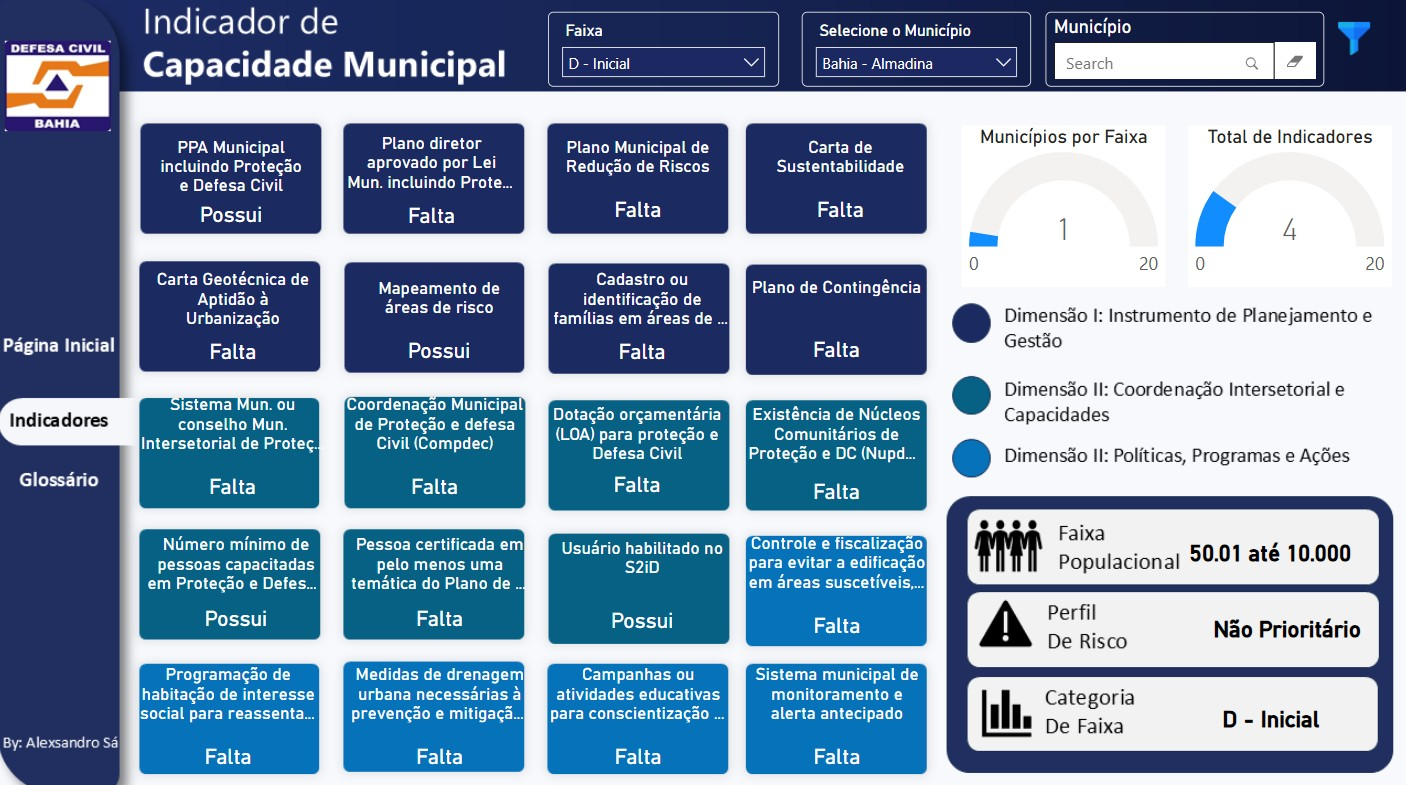

The dashboard page shown, as its layout file describes it:
{"tool":"powerbi","page":{"name":"Página 2","canvas":[1280,720],"ordinal":1},"visuals":[{"type":"card","title":"Plano diretor aprovado por Lei Mun. incluindo Proteção e DC","fields":{"Values":["Min(Tabela2.Indicador2)"]},"box":[311.4,122.6,163.1,98.1],"z":0},{"type":"card","title":"PPA Municipal incluindo Proteção e Defesa Civil","fields":{"Values":["Min(Tabela2.Indicador1)"]},"box":[136.1,126.3,150.8,89.5],"z":1000},{"type":"card","title":"Plano Municipal de Redução de Riscos","fields":{"Values":["Min(Tabela2.Indicador3)"]},"box":[499,126.3,163.1,98.1],"z":2000},{"type":"card","title":"Carta de Sustentabilidade ","fields":{"Values":["Min(Tabela2.Indicador_f4)"]},"box":[682.9,126.3,163.1,98.1],"z":3000},{"type":"card","title":"Carta Geotécnica de Aptidão à Urbanização","fields":{"Values":["Min(Tabela2.Indicador_f5)"]},"box":[131.1,245.5,163.2,97.7],"z":4000},{"type":"card","title":"Mapeamento de áreas de risco","fields":{"Values":["Min(Tabela2.Indicador_f6)"]},"box":[318.7,254.5,163.2,97.7],"z":5000},{"type":"card","title":"Cadastro ou identificação de famílias em áreas de risco","fields":{"Values":["Min(Tabela2.Indicador7)"]},"box":[498.6,245.5,170.9,97.7],"z":6000},{"type":"card","title":"Plano de Contingência","fields":{"Values":["Min(Tabela2.Indicador8)"]},"box":[676,253.2,169.6,115.7],"z":7000},{"type":"card","title":"Sistema Mun. ou conselho Mun. Intersetorial de Proteção e Defesa Civil","fields":{"Values":["Min(Tabela2.Indicador9)"]},"box":[124.7,359.8,176.1,115.7],"z":8000},{"type":"card","title":"Coordenação Municipal de Proteção e defesa Civil (Compdec)","fields":{"Values":["Min(Tabela2.Indicador10)"]},"box":[311,359.8,170.9,115.7],"z":9000},{"type":"card","title":"Dotação orçamentária (LOA) para proteção e Defesa Civil","fields":{"Values":["Min(Tabela2.Indicador11)"]},"box":[494.8,368.8,170.9,93.8],"z":10000},{"type":"card","title":"Existência de Núcleos Comunitários de Proteção e DC (Nupdec)","fields":{"Values":["Min(Tabela2.Indicador12)"]},"box":[676,368.8,169.6,106.7],"z":11000},{"type":"card","title":"Número mínimo de pessoas capacitadas em Proteção e Defesa Civil","fields":{"Values":["Min(Tabela2.Indicador13)"]},"box":[129.8,485.8,170.9,101.5],"z":12000},{"type":"card","title":"Pessoa certificada em pelo menos uma temática do Plano de Capacitação Continuada da Sedec","fields":{"Values":["Min(Tabela2.Indicador14)"]},"box":[314.9,485.8,170.9,101.5],"z":13000},{"type":"card","title":"Usuário habilitado no S2iD","fields":{"Values":["Min(Tabela2.Indicador15)"]},"box":[498.6,489.6,170.9,114.4],"z":14000},{"type":"card","title":"Controle e fiscalização para evitar a edificação em áreas suscetíveis, vistoriar edificações e áreas de risco","fields":{"Values":["Min(Tabela2.Indicador16)"]},"box":[675.6,485.5,170.4,115.2],"z":15000},{"type":"card","title":"Programação de habitação de interesse social para reassentamento de famílias removidas de áreas de risco ou desabrigadas em função de desastres","fields":{"Values":["Min(Tabela2.Indicador17)"]},"box":[123.8,604.4,170.4,115.2],"z":16000},{"type":"card","title":"Medidas de drenagem urbana necessárias à prevenção e mitigação de riscos de desastres","fields":{"Values":["Min(Tabela2.Indicador18)"]},"box":[314.9,604,170.9,115.7],"z":17000},{"type":"card","title":"Campanhas ou atividades educativas para conscientização sobre riscos de desastres","fields":{"Values":["Min(Tabela2.Indicador19)"]},"box":[495.3,604.4,170.4,115.2],"z":18000},{"type":"card","title":"Sistema municipal de monitoramento e alerta antecipado","fields":{"Values":["Min(Tabela2.Indicador20)"]},"box":[675.6,604.4,170.4,115.2],"z":19000},{"type":"slicer","fields":{"Values":["Tabela2.Região Ajustada"]},"box":[728.7,12.9,208.2,68.1],"z":20000},{"type":"slicer","fields":{"Values":["Tabela2.Faixa"]},"box":[498.6,12.9,209.5,68.1],"z":21000},{"type":"gauge","fields":{"Y":["Sum(Tabela2.Total)"]},"box":[1079.5,115.7,185.1,146.5],"z":22000},{"type":"actionButton","box":[10.3,41.1,90,81],"z":23000},{"type":"gauge","fields":{"Y":["Count(Tabela2.Código IBGE)"]},"box":[873.9,115.7,185.1,146.5],"z":24000},{"type":"actionButton","box":[3.9,290.4,102.8,39.8],"z":25000},{"type":"actionButton","box":[3.9,417.7,102.8,39.8],"z":26000},{"type":"textFilter25A4896A83E0487089E2B90C9AE57C8A","fields":{"field":["Tabela2.Município"]},"box":[949.7,12.9,253.2,68.1],"z":27000},{"type":"card","title":"MUNICÍPIOS","fields":{"Values":["Min(Tabela2.Faixa Populacional)"]},"box":[1061.5,462.7,185.1,81],"z":28000},{"type":"card","title":"MUNICÍPIOS","fields":{"Values":["Min(Tabela2.Perfil de Risco)"]},"box":[1059,532,221,81],"z":29000},{"type":"card","title":"MUNICÍPIOS","fields":{"Values":["Min(Tabela2.Faixa)"]},"box":[1043.5,613,221,81],"z":30000}]}

Visuals, with their boxes on the page's 1280x720 design canvas (x1, y1, x2, y2). These are canvas units, not pixel positions in the 1406x785 screenshot, which may show the page scaled, cropped or inside an application window:
"Plano diretor aprovado por Lei Mun. incluindo Proteção e DC" card: bbox=(311, 123, 474, 221)
"PPA Municipal incluindo Proteção e Defesa Civil" card: bbox=(136, 126, 287, 216)
"Plano Municipal de Redução de Riscos" card: bbox=(499, 126, 662, 224)
"Carta de Sustentabilidade " card: bbox=(683, 126, 846, 224)
"Carta Geotécnica de Aptidão à Urbanização" card: bbox=(131, 246, 294, 343)
"Mapeamento de áreas de risco" card: bbox=(319, 254, 482, 352)
"Cadastro ou identificação de famílias em áreas de risco" card: bbox=(499, 246, 670, 343)
"Plano de Contingência" card: bbox=(676, 253, 846, 369)
"Sistema Mun. ou conselho Mun. Intersetorial de Proteção e Defesa Civil" card: bbox=(125, 360, 301, 476)
"Coordenação Municipal de Proteção e defesa Civil (Compdec)" card: bbox=(311, 360, 482, 476)
"Dotação orçamentária (LOA) para proteção e Defesa Civil" card: bbox=(495, 369, 666, 463)
"Existência de Núcleos Comunitários de Proteção e DC (Nupdec)" card: bbox=(676, 369, 846, 476)
"Número mínimo de pessoas capacitadas em Proteção e Defesa Civil" card: bbox=(130, 486, 301, 587)
"Pessoa certificada em pelo menos uma temática do Plano de Capacitação Continuada da Sedec" card: bbox=(315, 486, 486, 587)
"Usuário habilitado no S2iD" card: bbox=(499, 490, 670, 604)
"Controle e fiscalização para evitar a edificação em áreas suscetíveis, vistoriar edificações e áreas de risco" card: bbox=(676, 486, 846, 601)
"Programação de habitação de interesse social para reassentamento de famílias removidas de áreas de risco ou desabrigadas em função de desastres" card: bbox=(124, 604, 294, 720)
"Medidas de drenagem urbana necessárias à prevenção e mitigação de riscos de desastres" card: bbox=(315, 604, 486, 720)
"Campanhas ou atividades educativas para conscientização sobre riscos de desastres" card: bbox=(495, 604, 666, 720)
"Sistema municipal de monitoramento e alerta antecipado" card: bbox=(676, 604, 846, 720)
slicer - Tabela2.Região Ajustada: bbox=(729, 13, 937, 81)
slicer - Tabela2.Faixa: bbox=(499, 13, 708, 81)
gauge - Sum(Tabela2.Total): bbox=(1080, 116, 1265, 262)
actionButton: bbox=(10, 41, 100, 122)
gauge - Count(Tabela2.Código IBGE): bbox=(874, 116, 1059, 262)
actionButton: bbox=(4, 290, 107, 330)
actionButton: bbox=(4, 418, 107, 458)
textFilter25A4896A83E0487089E2B90C9AE57C8A - Tabela2.Município: bbox=(950, 13, 1203, 81)
"MUNICÍPIOS" card: bbox=(1062, 463, 1247, 544)
"MUNICÍPIOS" card: bbox=(1059, 532, 1280, 613)
"MUNICÍPIOS" card: bbox=(1044, 613, 1264, 694)
